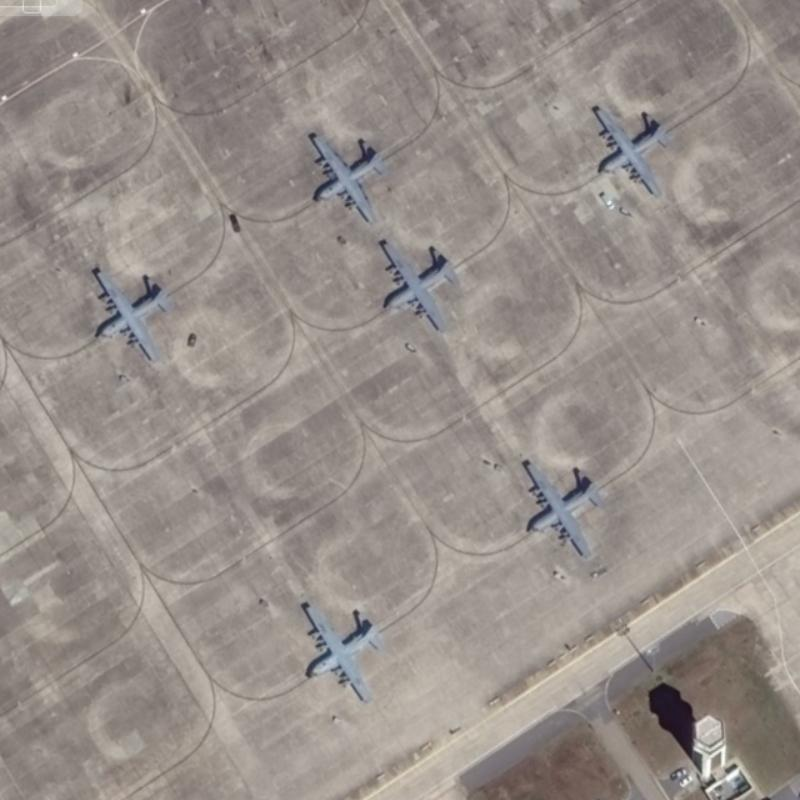A2: (299, 593, 386, 706), (516, 453, 606, 561), (86, 260, 178, 362), (372, 235, 461, 337), (303, 125, 392, 226), (586, 102, 675, 202)
